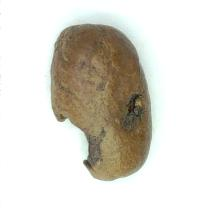NG: (51, 101, 108, 172), (122, 85, 148, 138)
